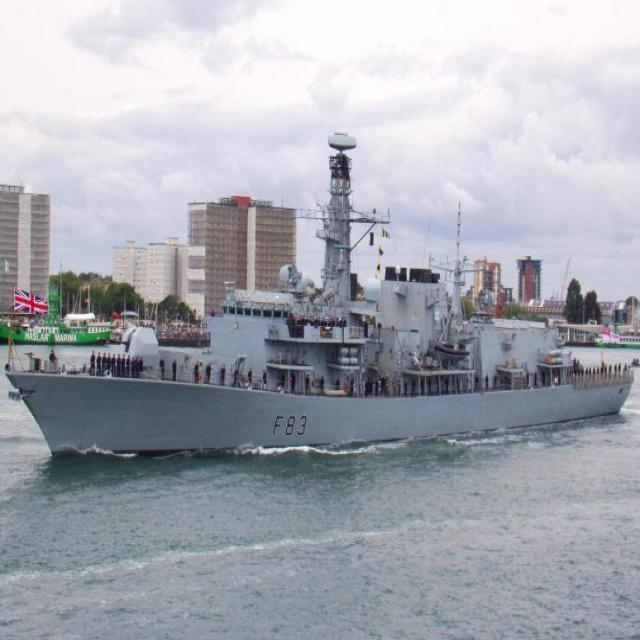Fragata: (3, 126, 640, 482)
